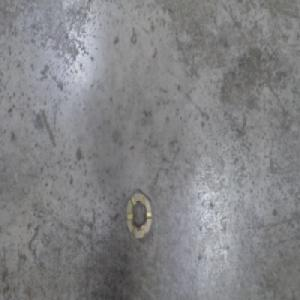Nut: (124, 187, 153, 242)
